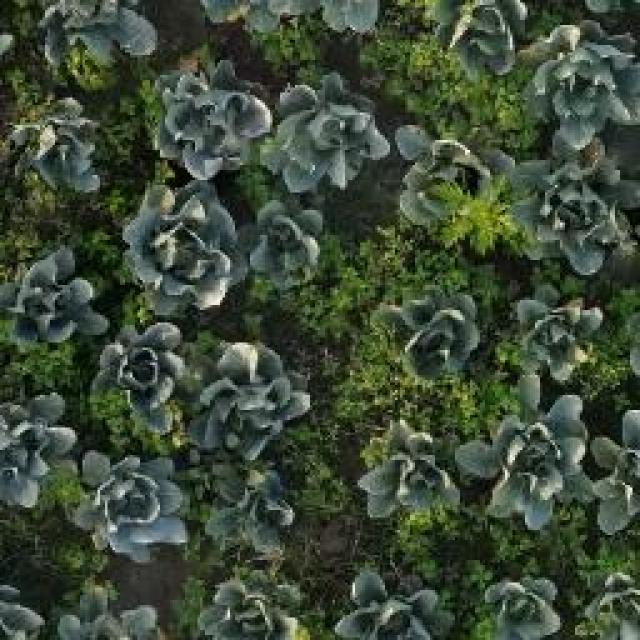cabbage: (502, 138, 640, 278), (470, 388, 601, 523), (123, 179, 251, 312), (154, 54, 274, 184), (522, 12, 640, 142), (76, 440, 197, 560), (95, 318, 205, 437), (262, 75, 372, 193), (198, 335, 308, 453), (355, 418, 461, 530), (199, 458, 309, 558), (378, 282, 484, 384), (244, 184, 342, 290), (8, 246, 112, 342), (9, 94, 108, 194), (394, 125, 497, 220), (32, 0, 158, 75), (332, 555, 442, 640), (0, 392, 76, 506), (503, 292, 607, 375), (200, 570, 316, 640), (426, 0, 529, 78), (475, 567, 565, 640)
